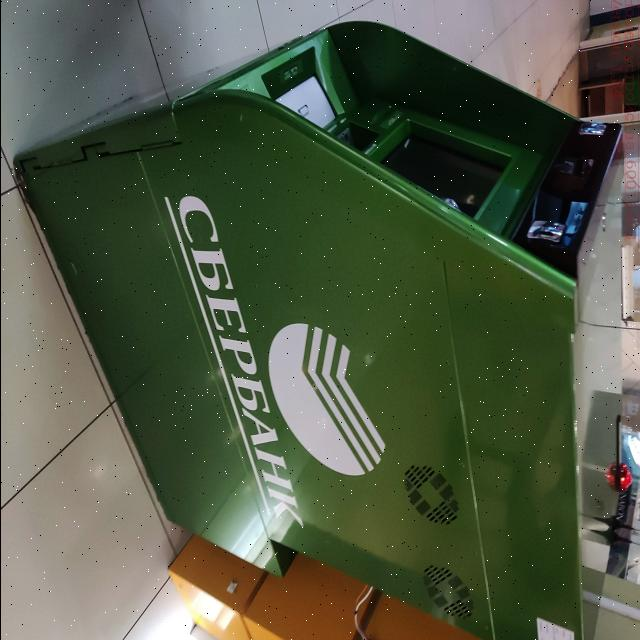bank: (12, 29, 627, 640)
